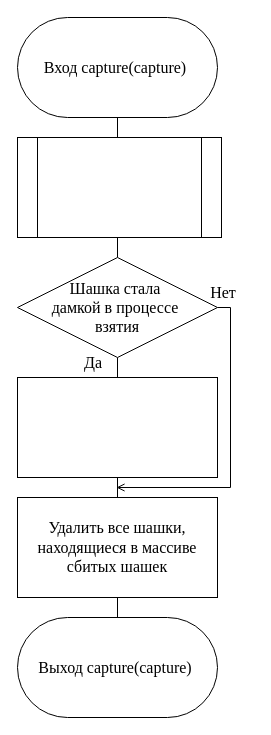
Image size: 271x735. Some labels were removed from this diagram. The box of each missing label's shape, as (x1, y1, x2, y2) in pixels:
Поместить дамку на конечную позицию: (16, 376, 218, 478)
Совершить ход в соответствии с начальной и конечной позицией: (16, 136, 222, 238)
